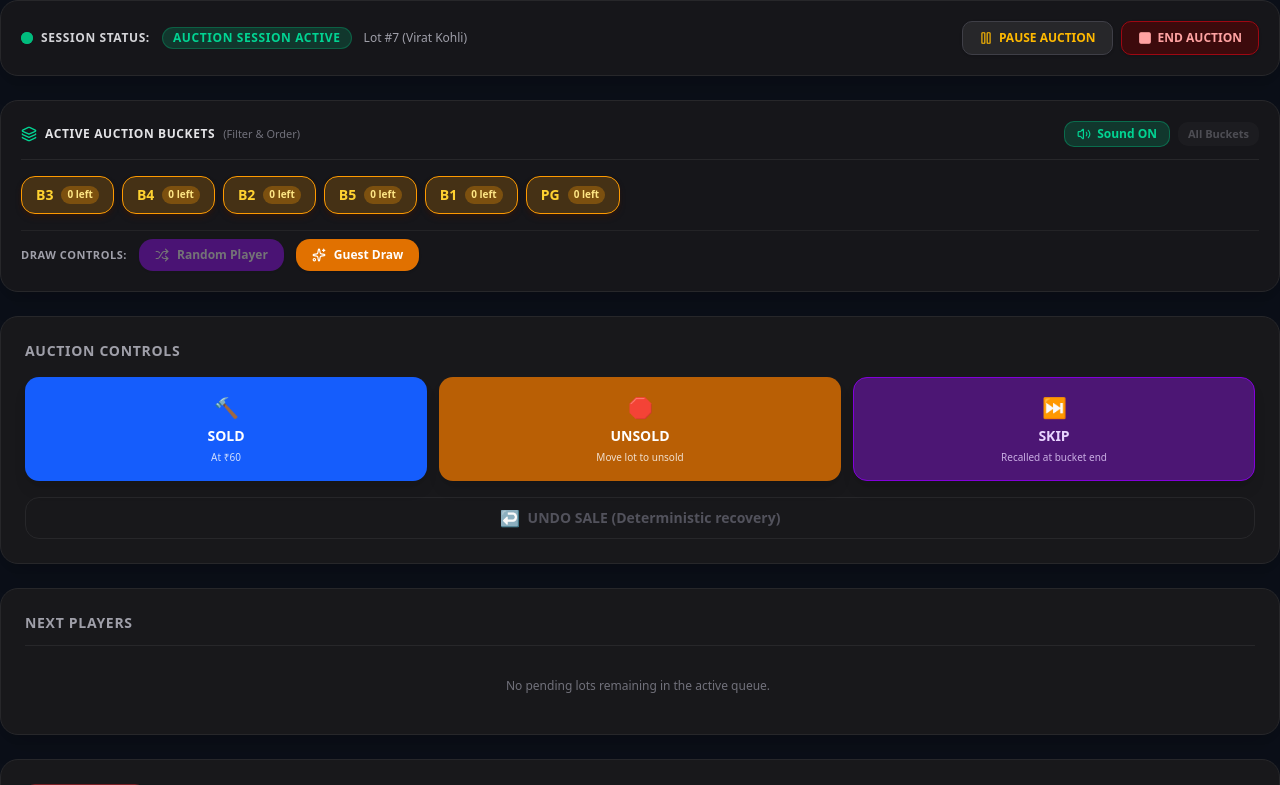
Scenario: 3. Initiating Browser vs Other Browsers — Admin, Player Queue, Franchise & Public /live Flows › Admin SOLD and UNSOLD actions complete cleanly without redundant router.refresh() or stuck pending state
Step 1. Click the button "🔨 SOLD At ₹60" → (226, 429), box x1=25 y1=377 x2=427 y2=481
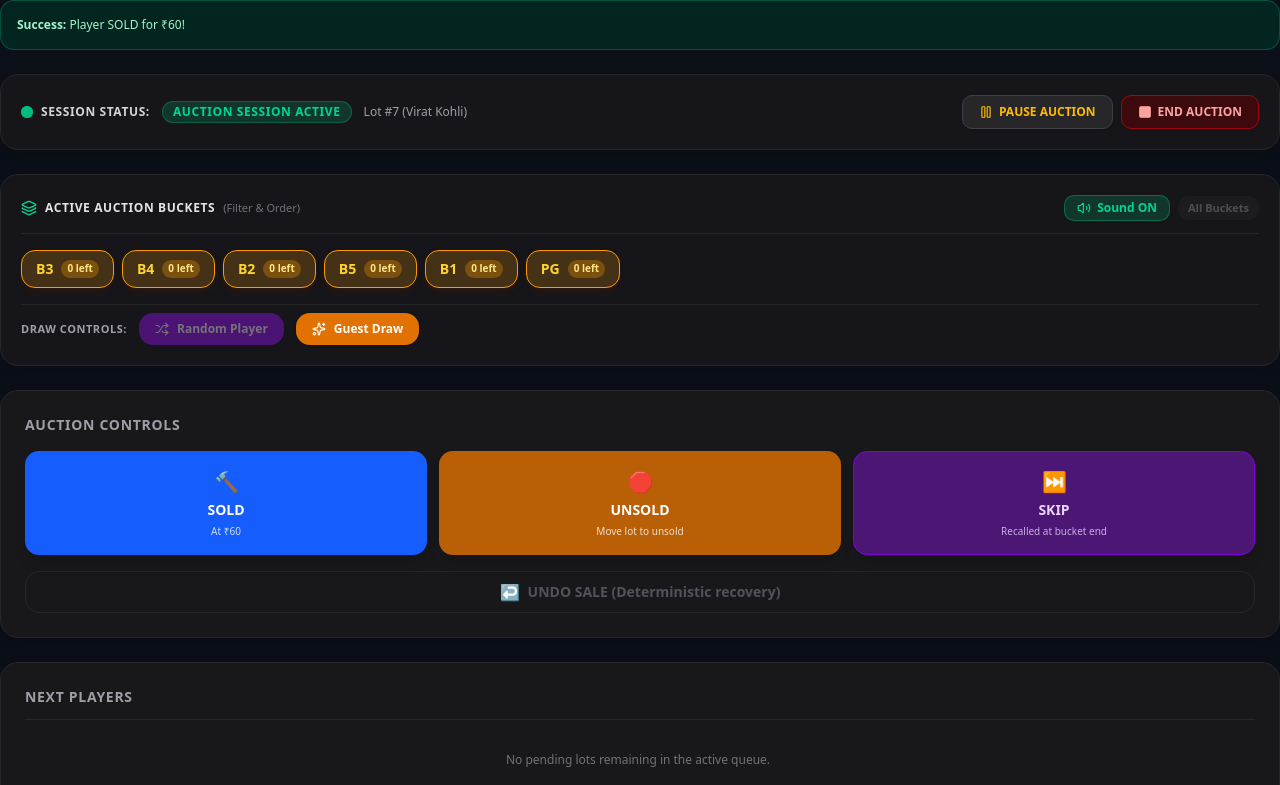
Now the text "Success: Player SOLD for ₹60!" is shown, box x1=0 y1=0 x2=1279 y2=50
Step 2. Click the button "🛑 UNSOLD Move lot to unsold" → (640, 503), box x1=439 y1=451 x2=841 y2=555
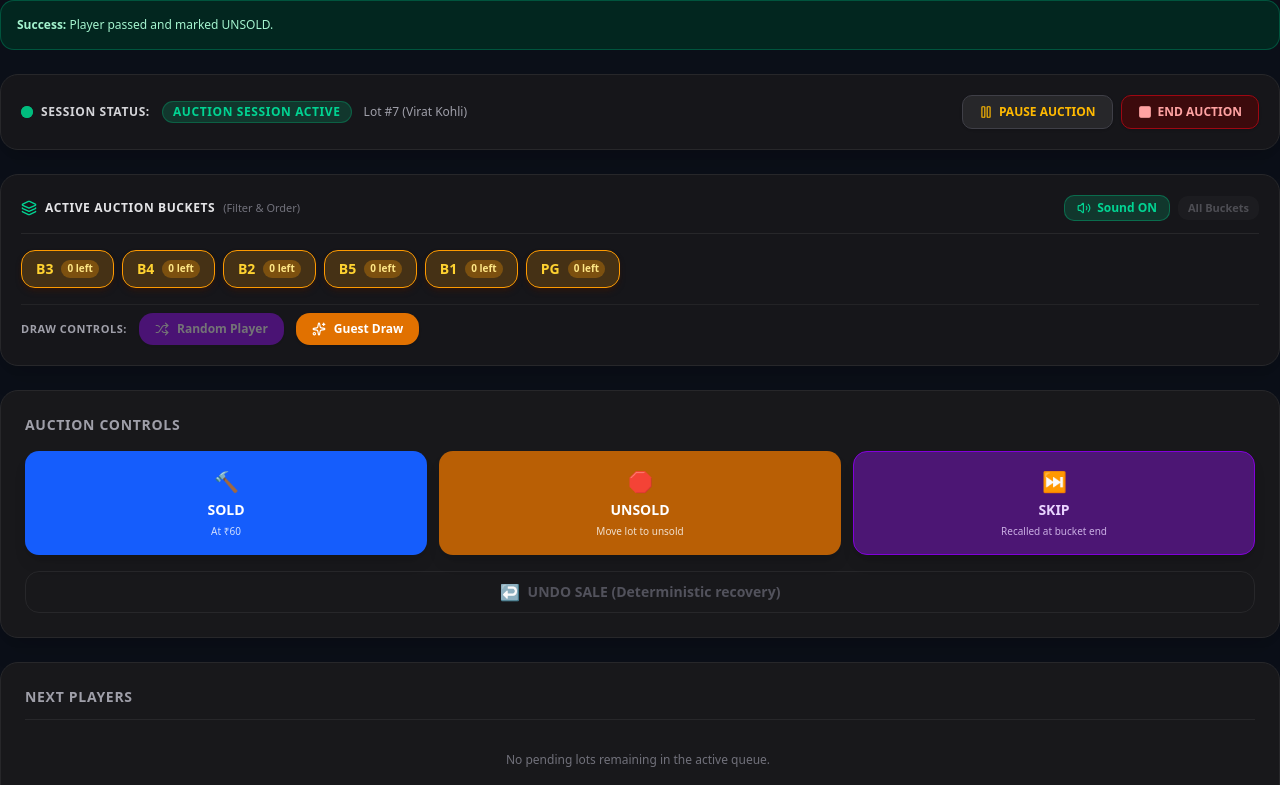
Now the text "Success: Player passed and marked UNSOLD." is shown, box x1=0 y1=0 x2=1279 y2=50
